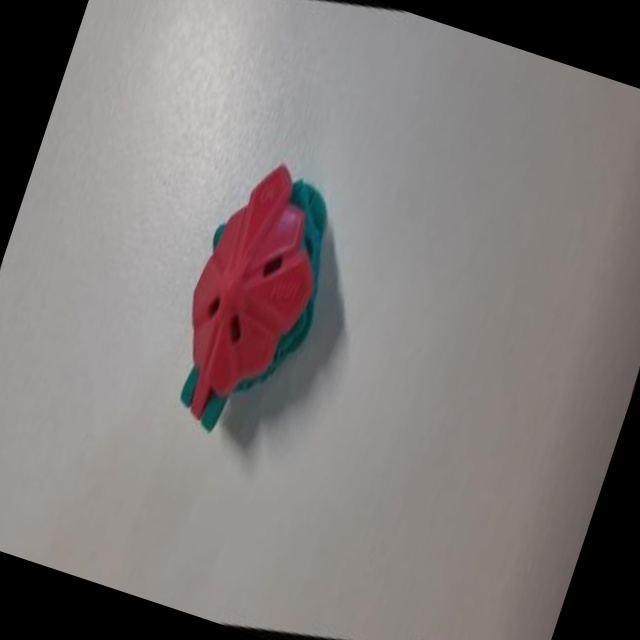House: (131, 89, 392, 478)
